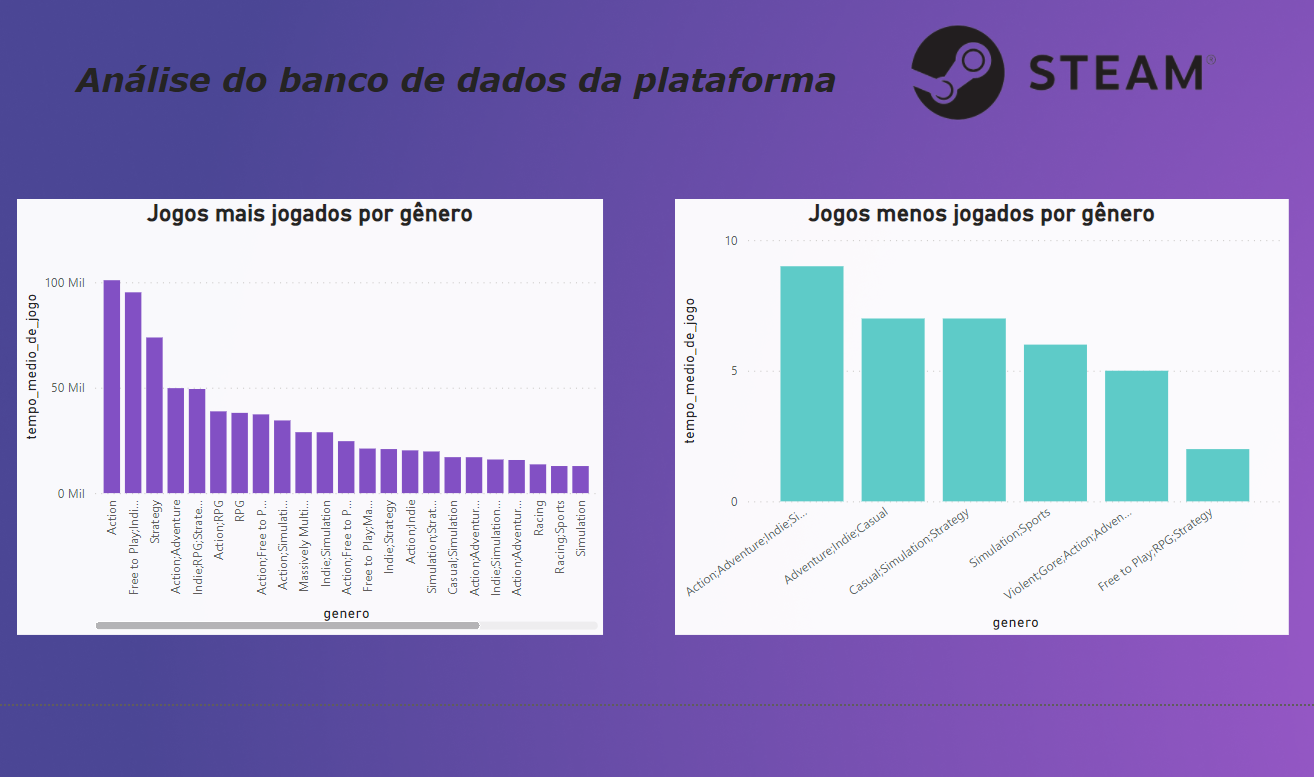

The dashboard page shown, as its layout file describes it:
{"tool":"powerbi","page":{"name":"Jogos mais e menos jogados por gênero","canvas":[1280,720],"ordinal":2},"visuals":[{"type":"image","box":[856.4,39.9,357.8,121.3],"z":0},{"type":"textbox","box":[41.6,87.7,805.9,52.3],"z":1000},{"type":"clusteredColumnChart","title":"Jogos menos jogados por gênero","fields":{"Category":["bdsteam steam_dados.genero"],"Y":["Sum(bdsteam steam_dados.tempo_medio_de_jogo)"]},"box":[657.1,228.5,596.9,424.2],"z":2000},{"type":"clusteredColumnChart","title":"Jogos mais jogados por gênero","fields":{"Category":["bdsteam steam_dados.genero"],"Y":["Sum(bdsteam steam_dados.tempo_medio_de_jogo)"]},"box":[17.7,228.5,570.3,424.2],"z":3000}]}

Visuals, with their boxes on the page's 1280x720 design canvas (x1, y1, x2, y2). These are canvas units, not pixel positions in the 1314x777 screenshot, which may show the page scaled, cropped or inside an application window:
image: 856:40:1214:161
textbox: 42:88:848:140
"Jogos menos jogados por gênero" clusteredColumnChart: 657:228:1254:653
"Jogos mais jogados por gênero" clusteredColumnChart: 18:228:588:653
